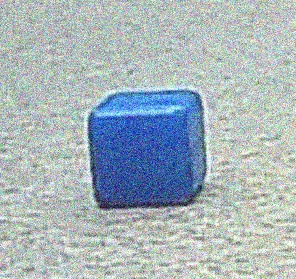blue_cube: (81, 85, 220, 212)
